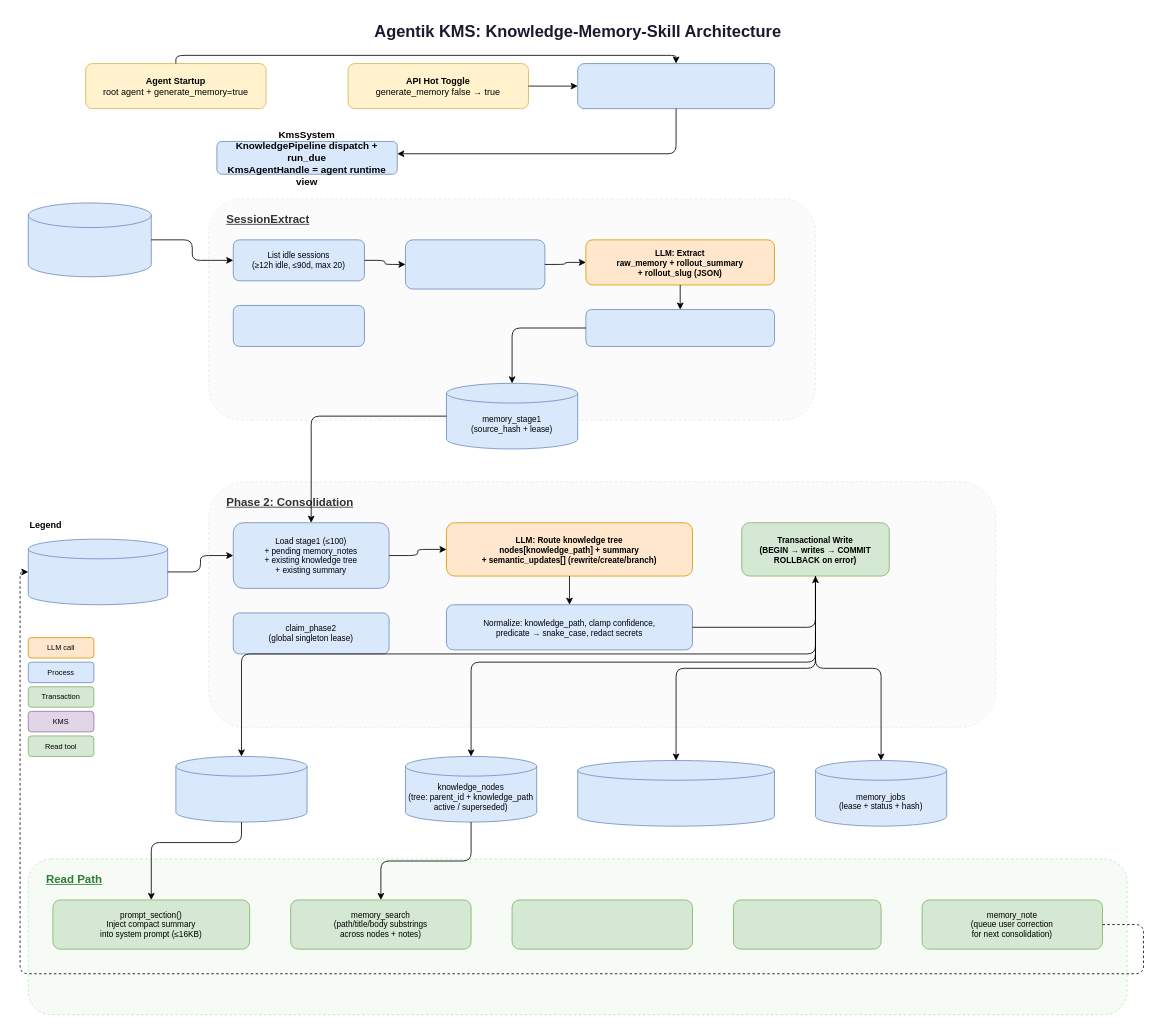
The diagram is 1164 pixels wide and 1029 high, and some of its shapes have lost their labels. The box of each missing label's shape, as (x1, y1, x2, y2) in pixels:
claim_stage1 (lease + source_hash dedup): (232, 305, 364, 346)
KnowledgeEvent → knowledge_pipeline_jobs (dedup + lease + retry): (577, 63, 774, 109)
memory_list (active knowledge leaves, most recent first): (733, 899, 881, 949)
memory_notes (pending user corrections): (27, 538, 168, 605)
memory_read (summary or node by UUID with offset + limit): (511, 899, 692, 949)
memory_semantic_observations (candidate relation triples for future graph layer): (577, 760, 774, 826)
memory_summaries (v1, global singleton): (175, 756, 307, 822)
Redact secrets (token=, password=, bearer, etc.): (585, 309, 774, 346)
Render transcript (context-window × 0.7) single block ≤2KB: (405, 239, 545, 289)
Session Storage (rollouts / WAL): (27, 202, 151, 277)
